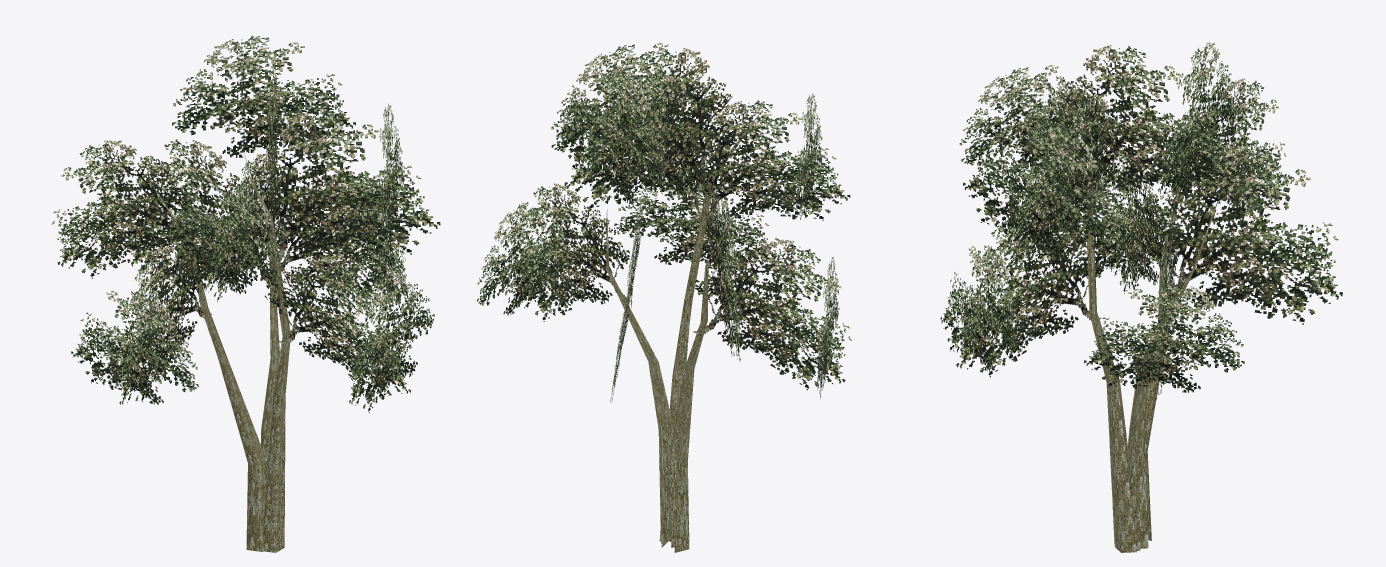
File: stage-sanf-p2-59.glb
3 renders of one model, left to right at view 1: azimuth 30°, elevation 25°; view 2: azimuth 150°, elevation 25°; view 3: azimuth 270°, elevation 25°, orthographic. The views are drawn at different scales.
Bounding box in the file's own units: 25.96 × 32.06 × 25.56.
3 materials, 3 textured.
